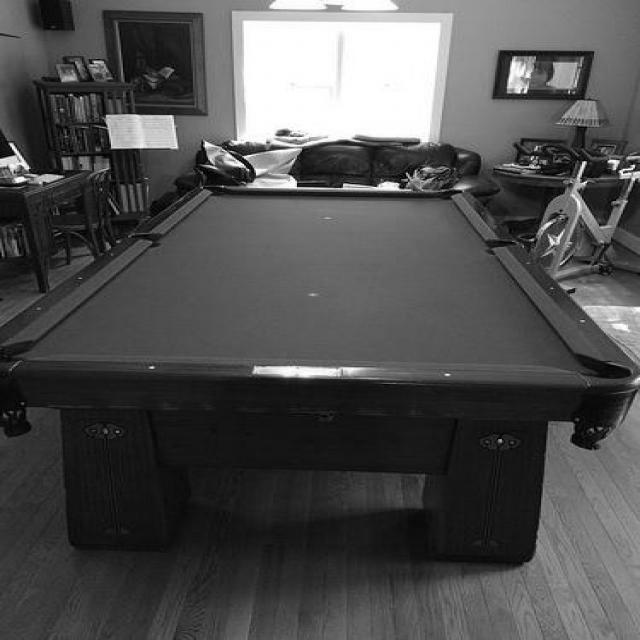table: (0, 178, 635, 570)
